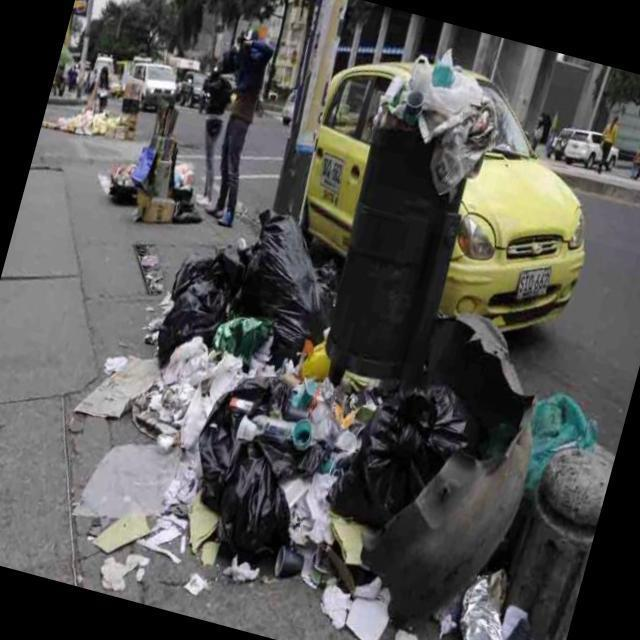garbage: (109, 7, 634, 640)
